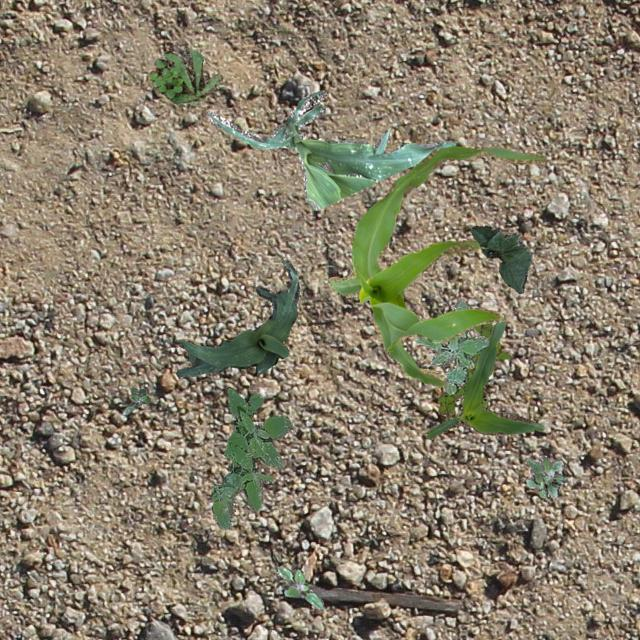crop: (326, 144, 544, 386), (206, 90, 454, 210), (174, 258, 298, 376), (426, 320, 542, 438), (470, 225, 530, 292)
weed: (208, 386, 294, 528), (413, 297, 488, 393), (438, 322, 510, 418), (148, 48, 222, 102), (276, 566, 322, 608), (526, 454, 566, 496), (122, 386, 150, 414)
